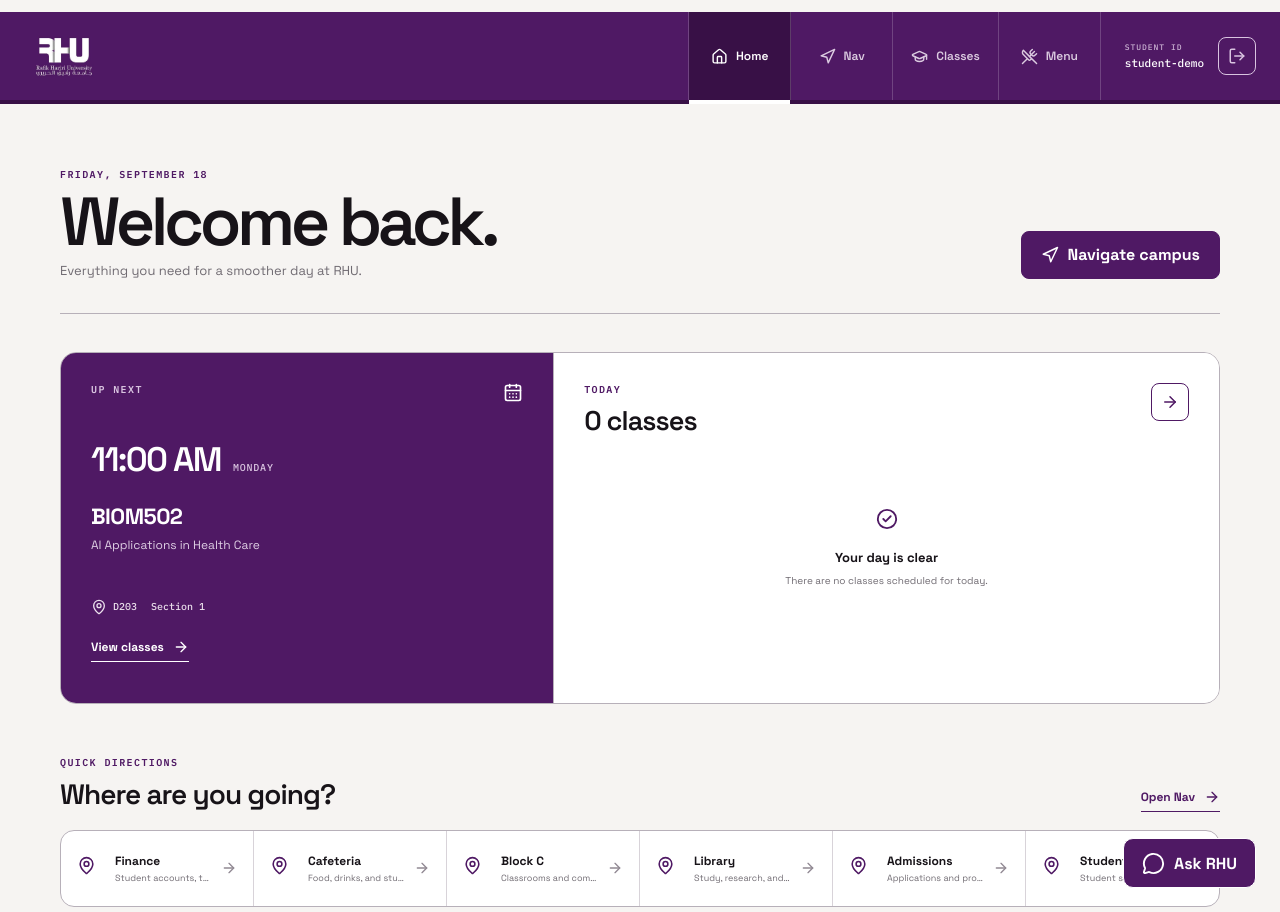
Scenario: RHU student experience › advances empty class days to the next day with meetings and wraps to Monday
Click the button "Classes" at (946,56), box x1=893 y1=12 x2=999 y2=100
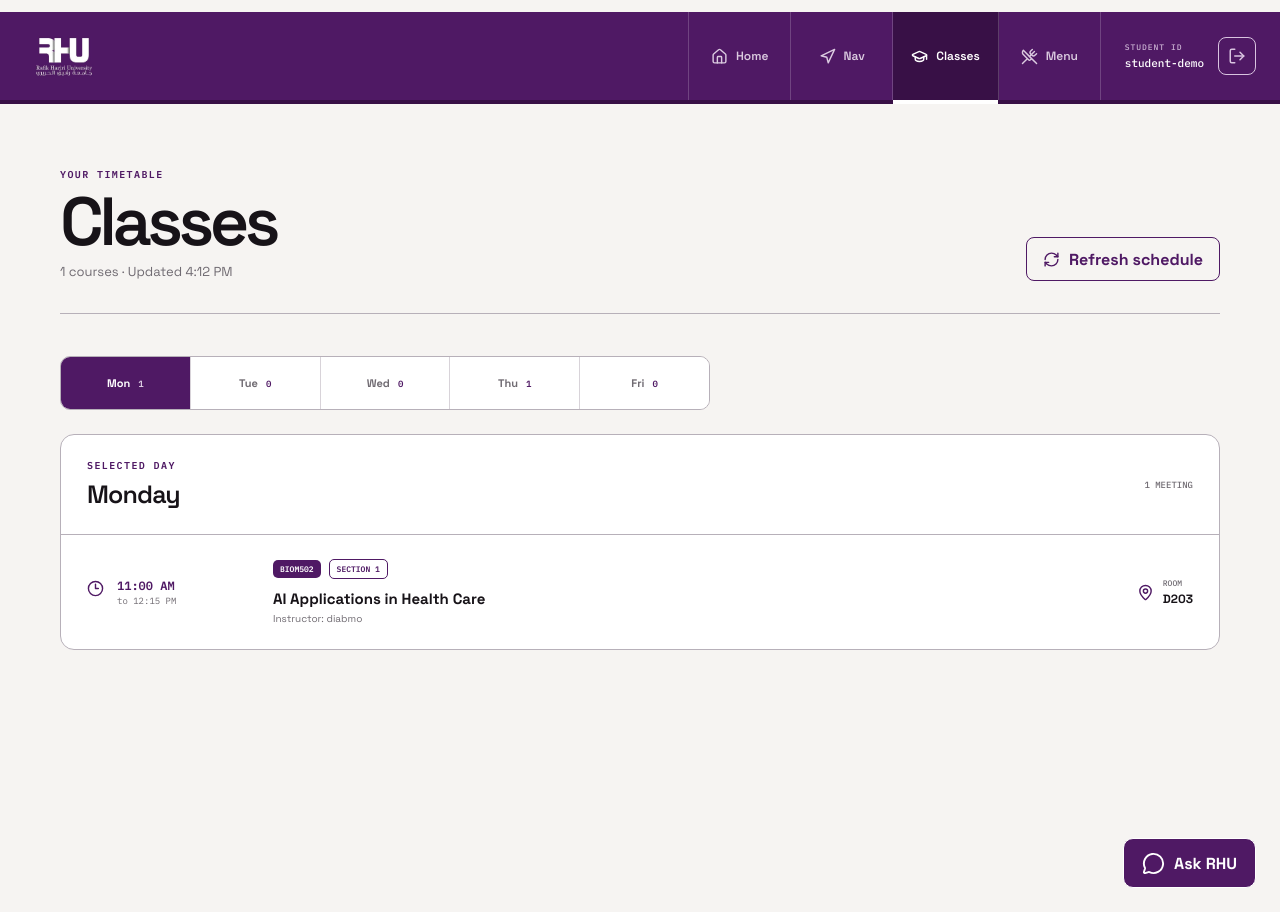
Click the tab "Tue 0" at (256,383), box x1=191 y1=357 x2=321 y2=409
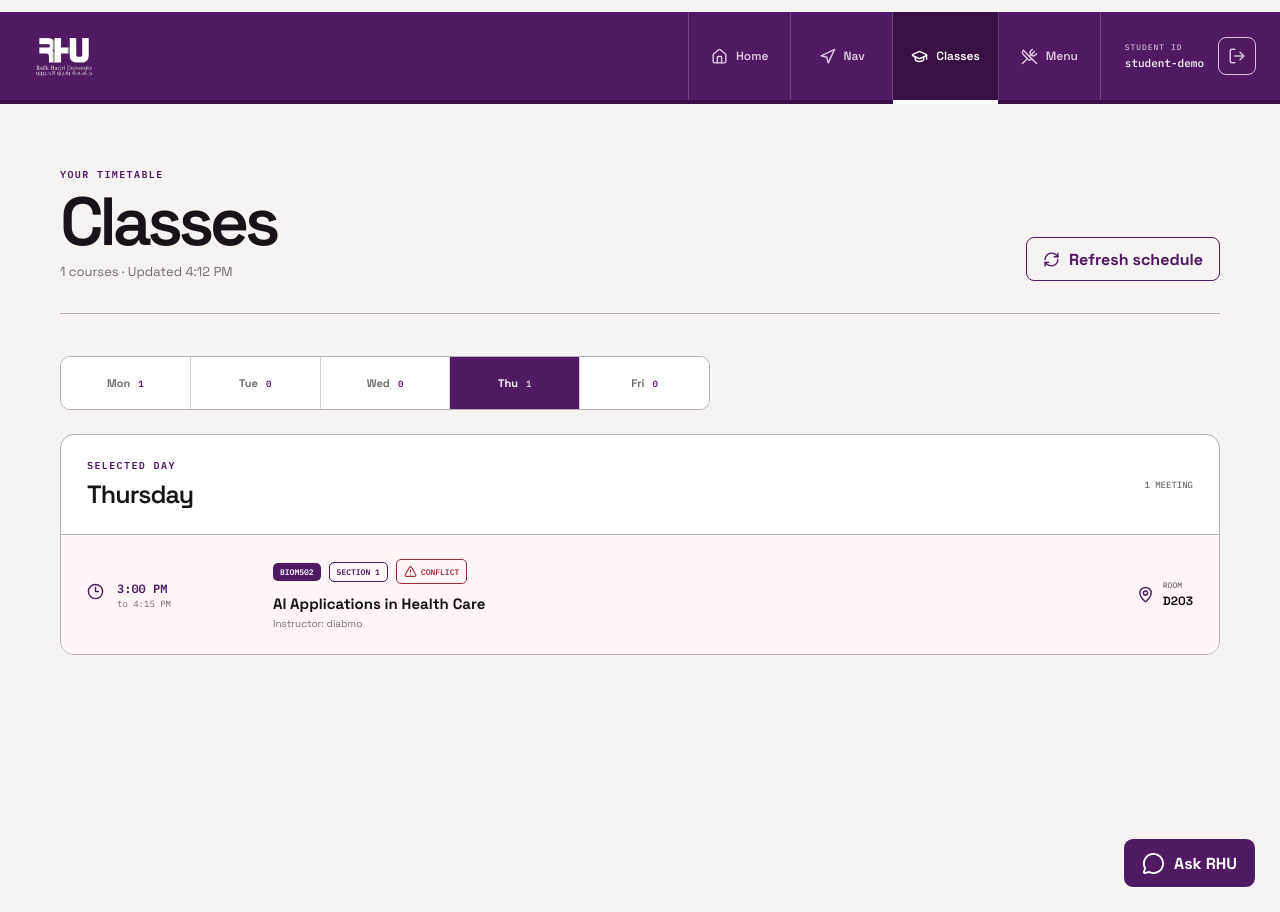
Result: the heading "Thursday" is shown at x1=87 y1=478 x2=193 y2=510
Click the tab "Fri 0" at (645,383), box x1=580 y1=357 x2=709 y2=409
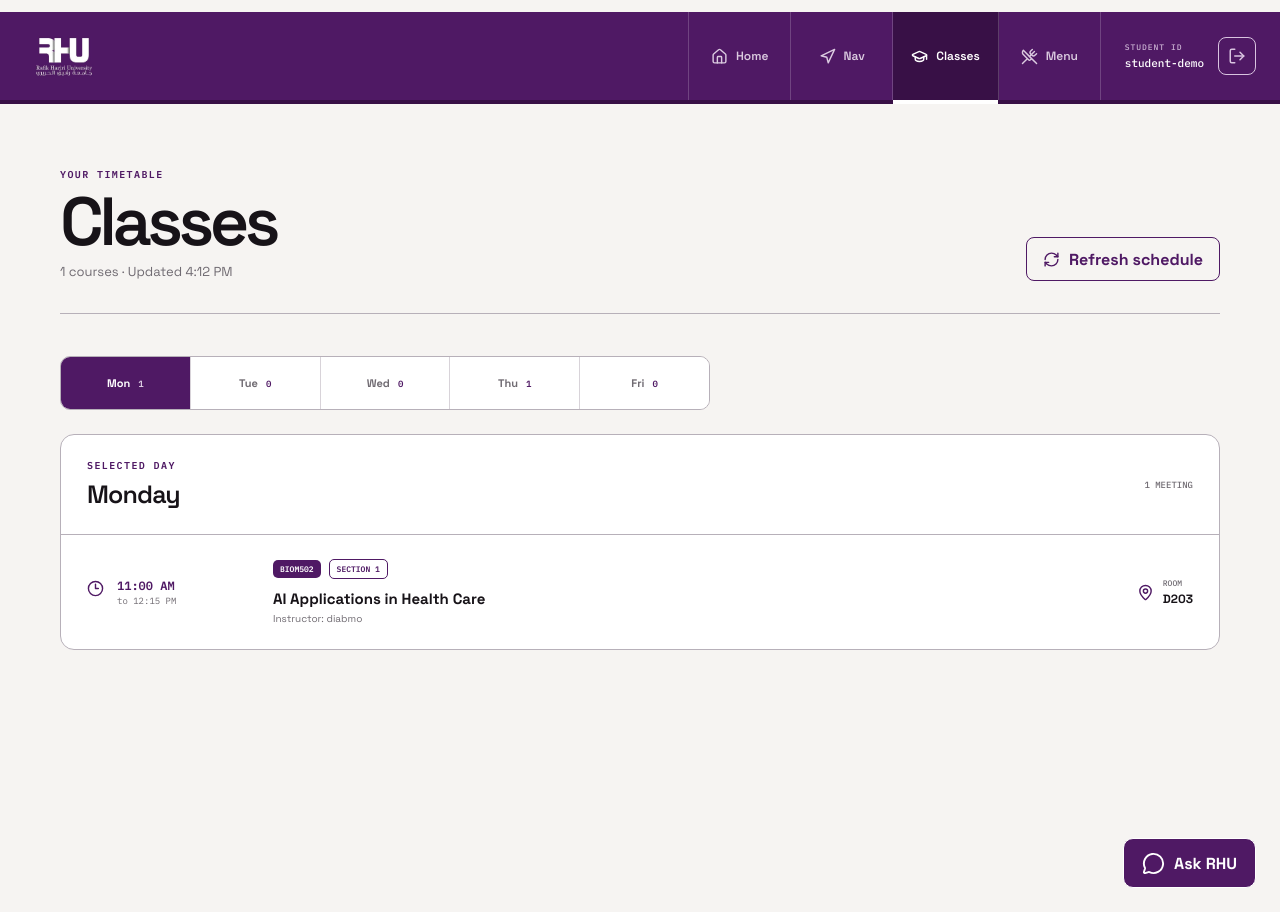
Result: the heading "Monday" is shown at x1=87 y1=478 x2=180 y2=510
